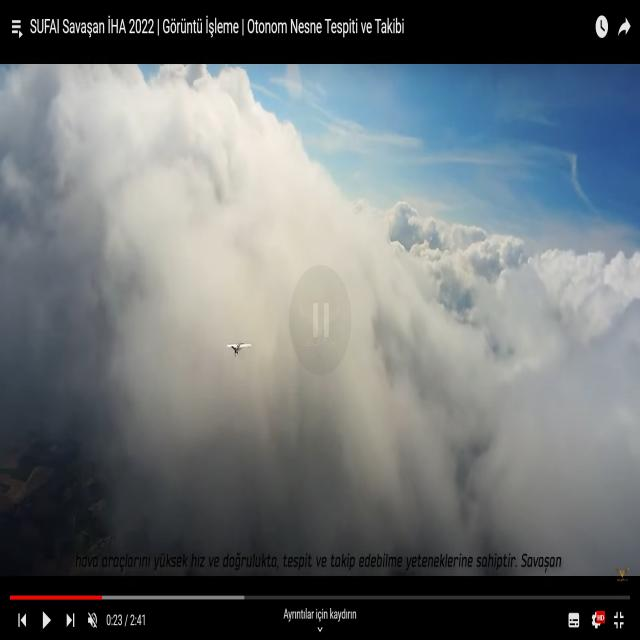iha: (225, 340, 252, 356)
